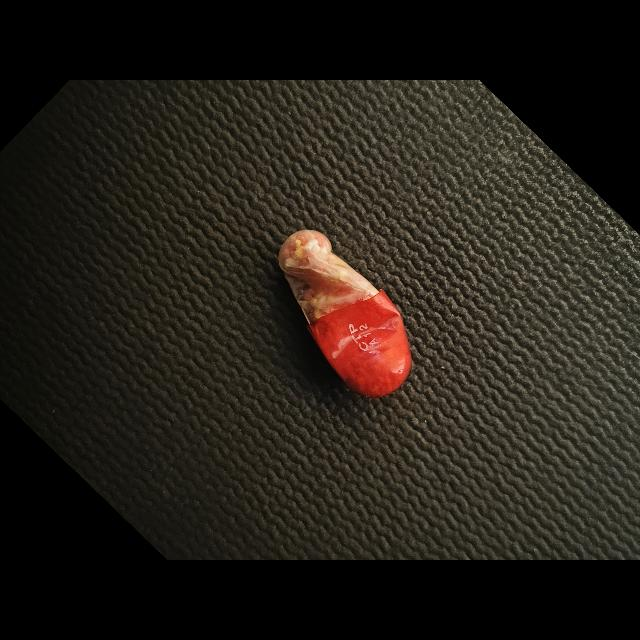Defective Capsule: (279, 229, 412, 397)
